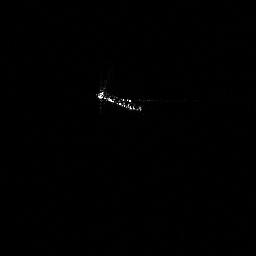ship: (93, 82, 145, 115)
